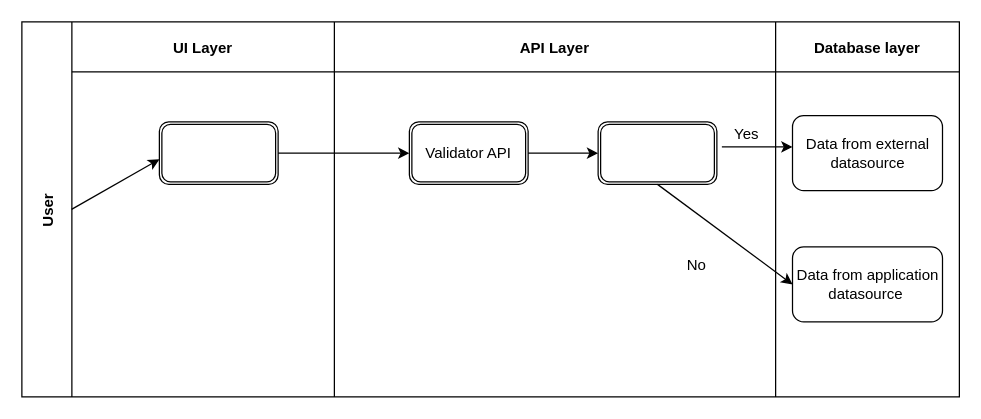
Image size: 981x419. Some labels were removed from this diagram. The shapes that lost their labels are listed below. From the top down, each one's centre as x and y in pixels, then its label:
point (218, 152): Front end
point (657, 152): Is proprietory information?
